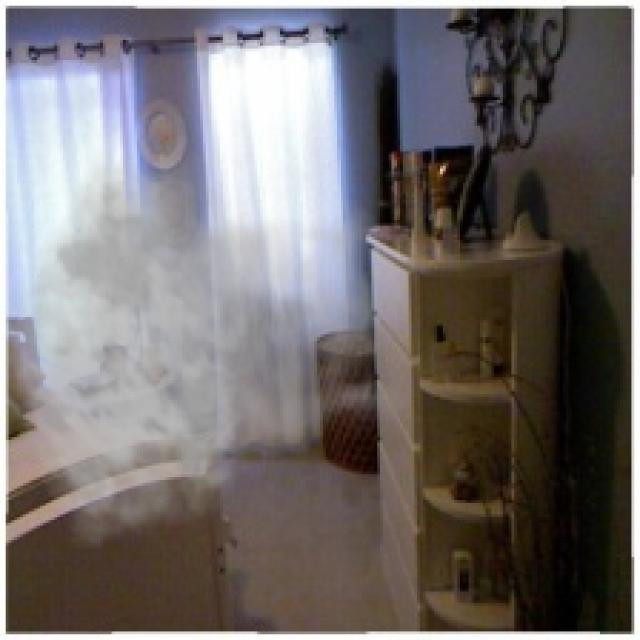smoke: (6, 126, 417, 548)
